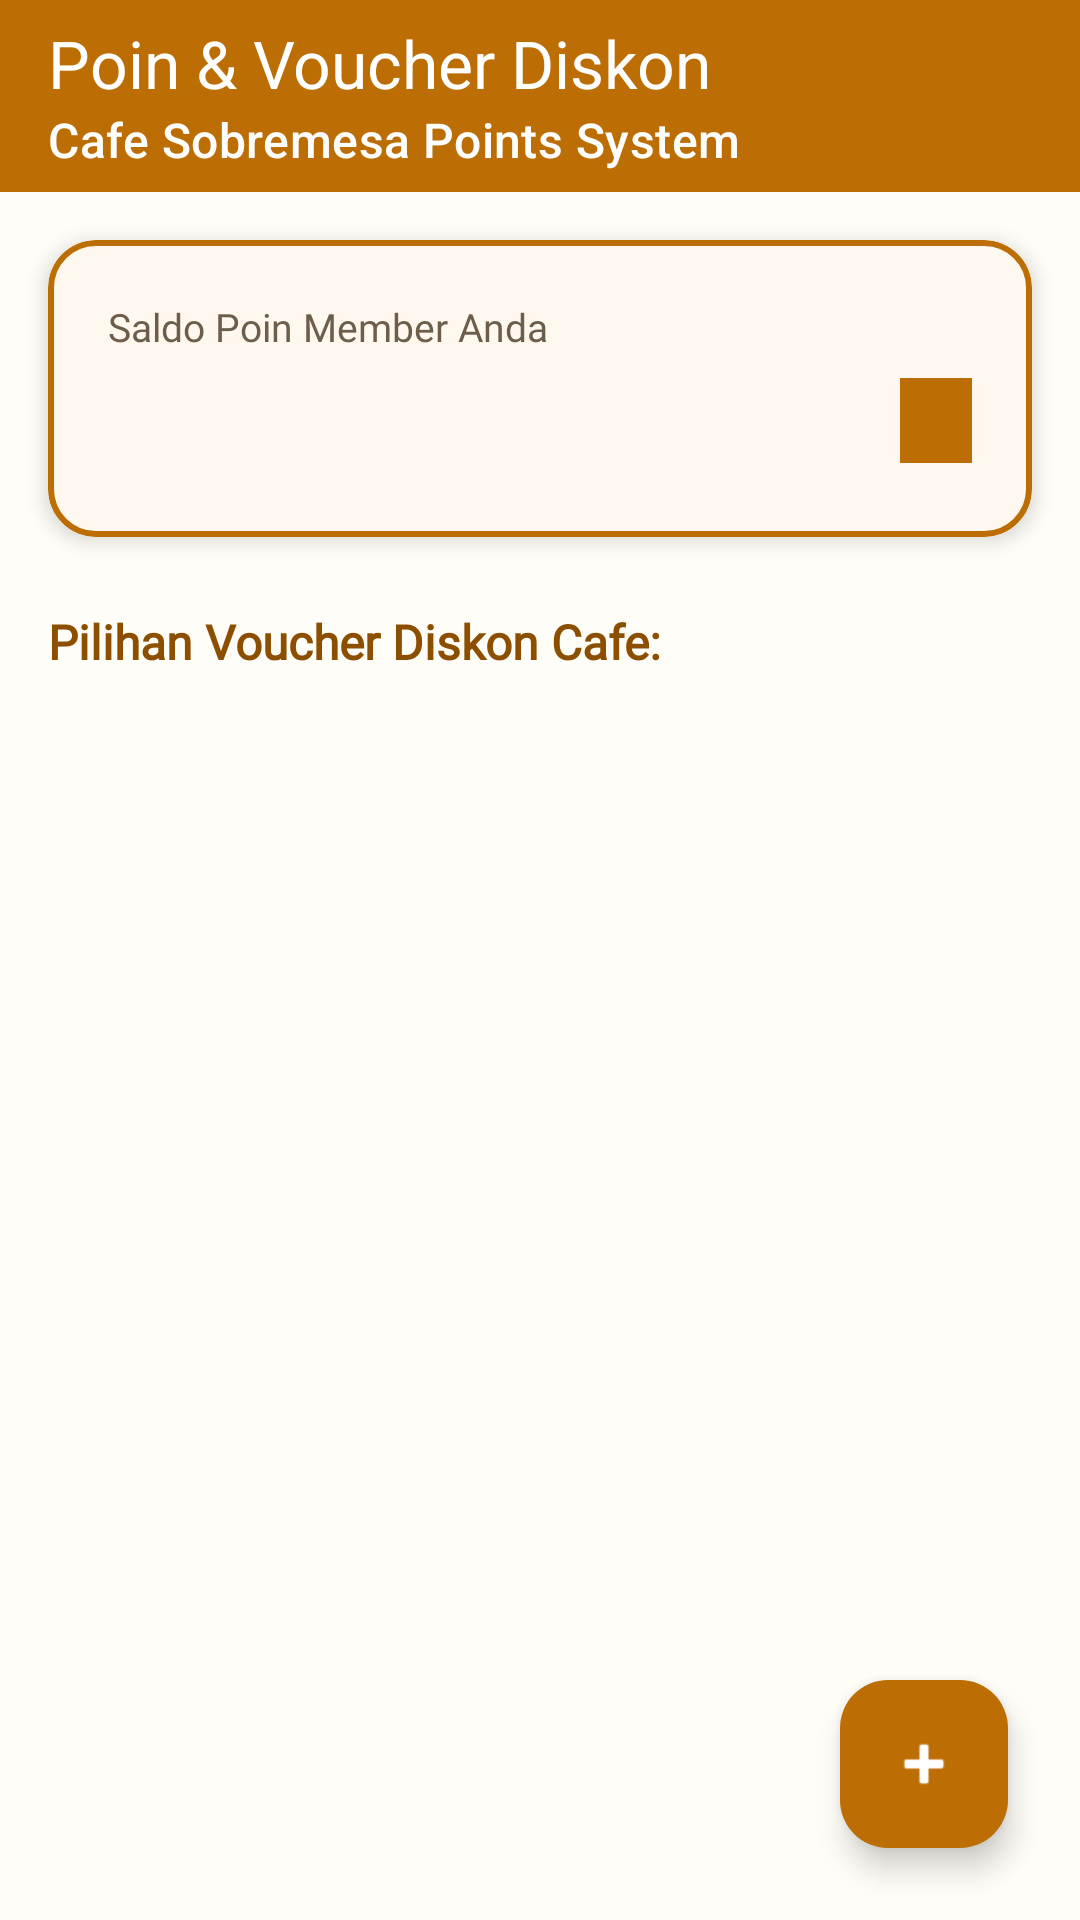

Where icons sit on this 1080 x 1920 app screen, as [x1,y1,x2,y2]:
Tambah Voucher: [840,1680,1008,1848]
